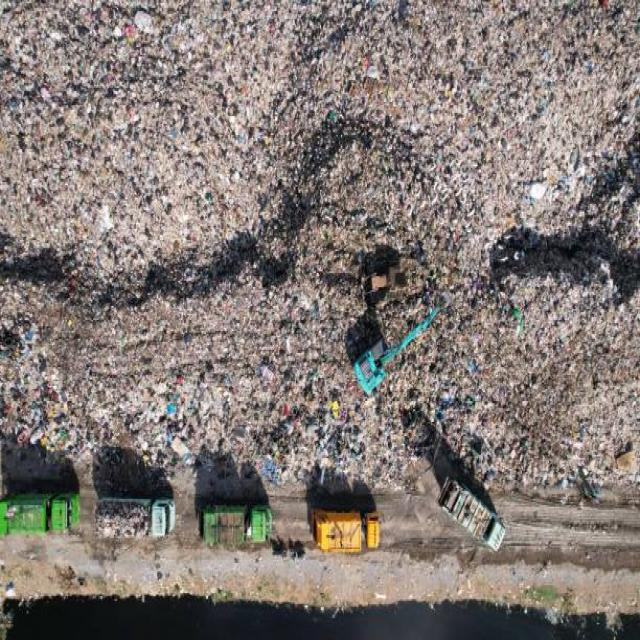plastic: (5, 5, 637, 312), (18, 47, 329, 413), (450, 281, 640, 480)
